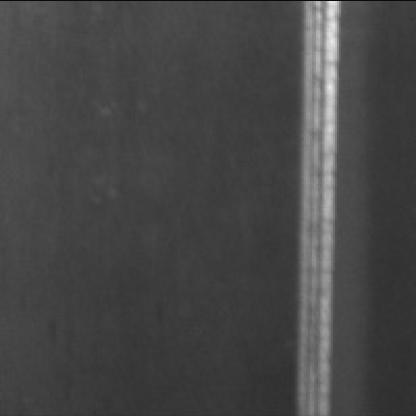scratches: (285, 4, 343, 416)
